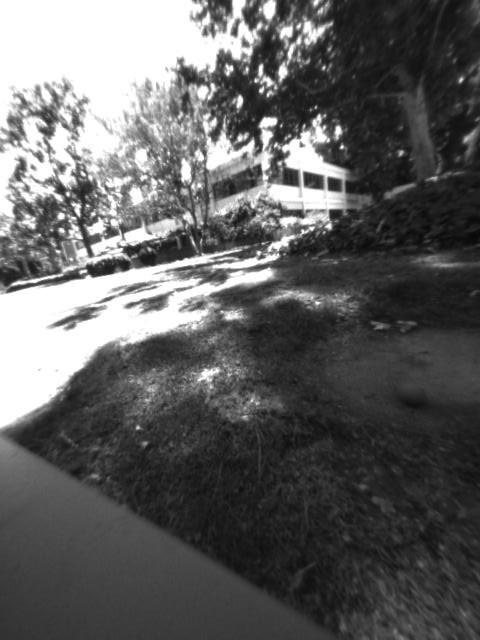dogtoy: (388, 374, 438, 416)
